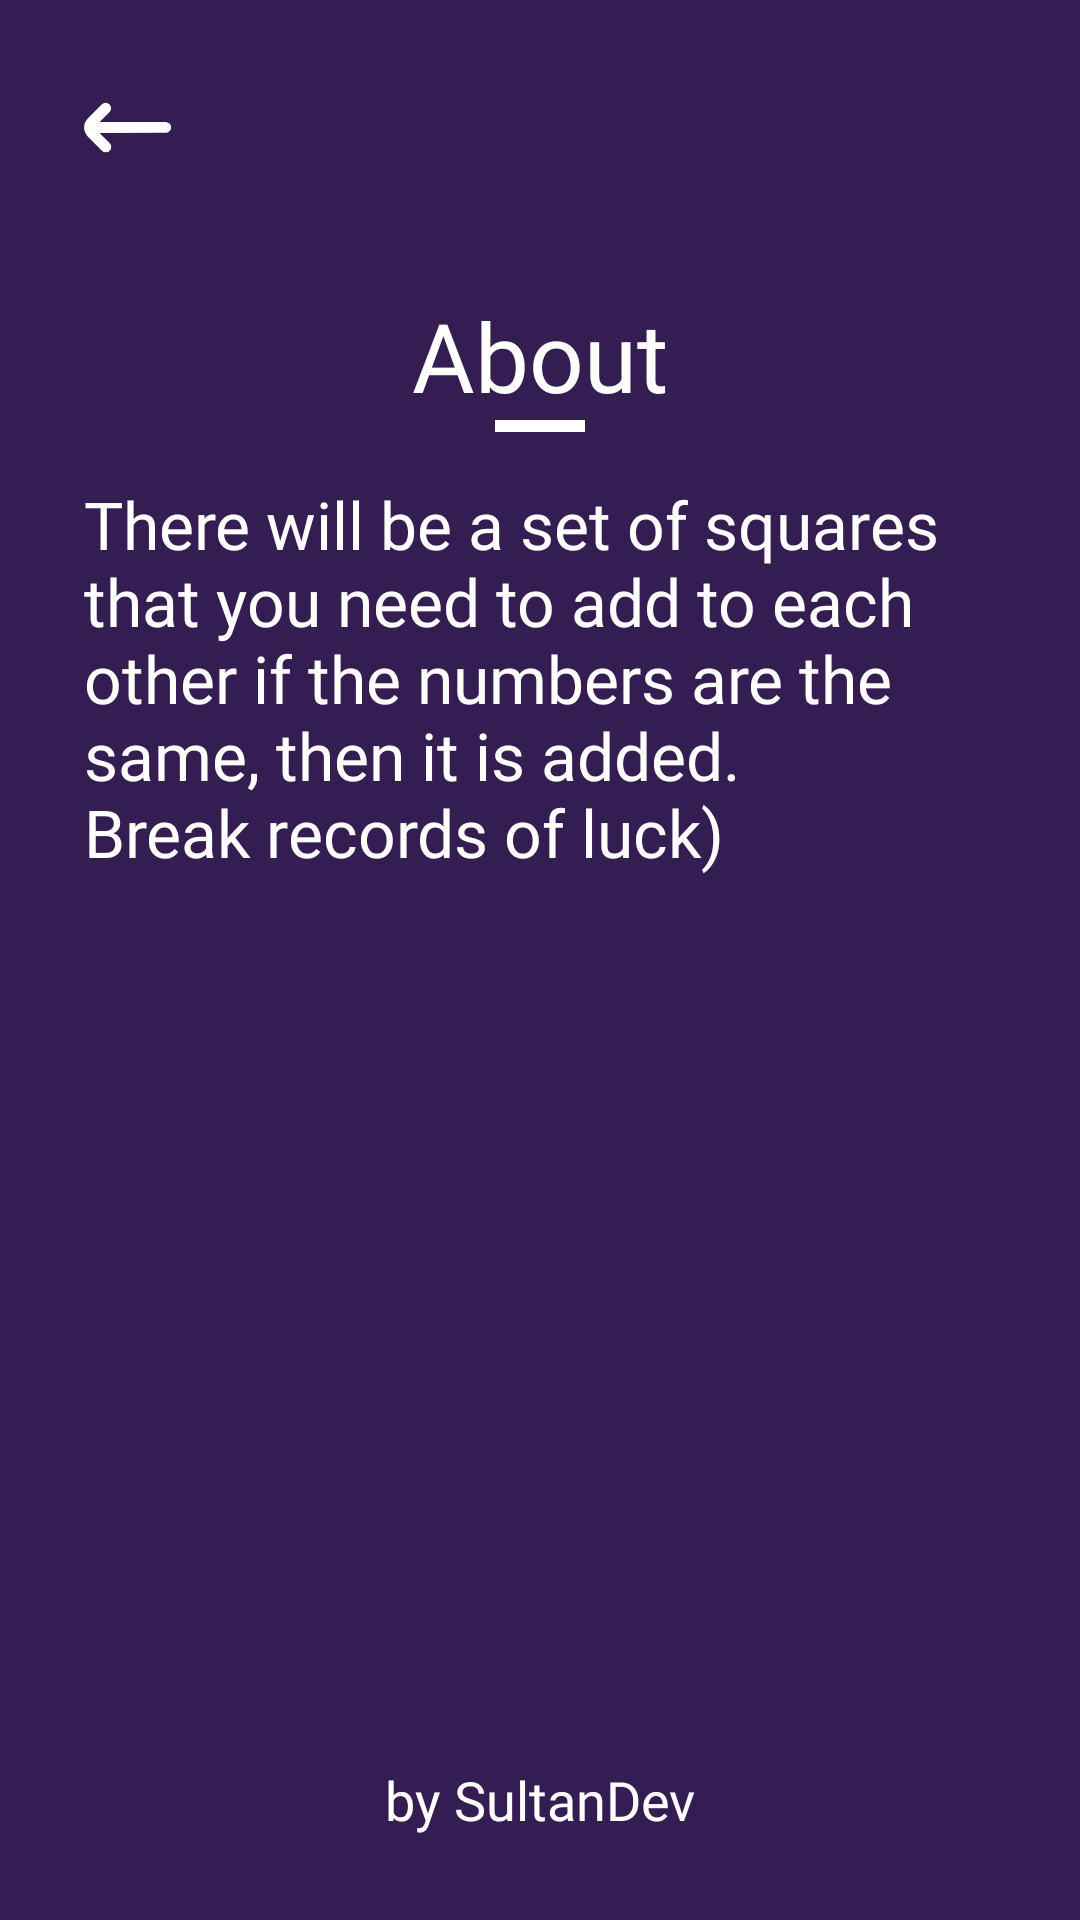

Locate icon controls on the screen. Image size 1080px x 1920px, boxes as box(x1, y1, x2, y2).
back: box(84, 102, 171, 153)
